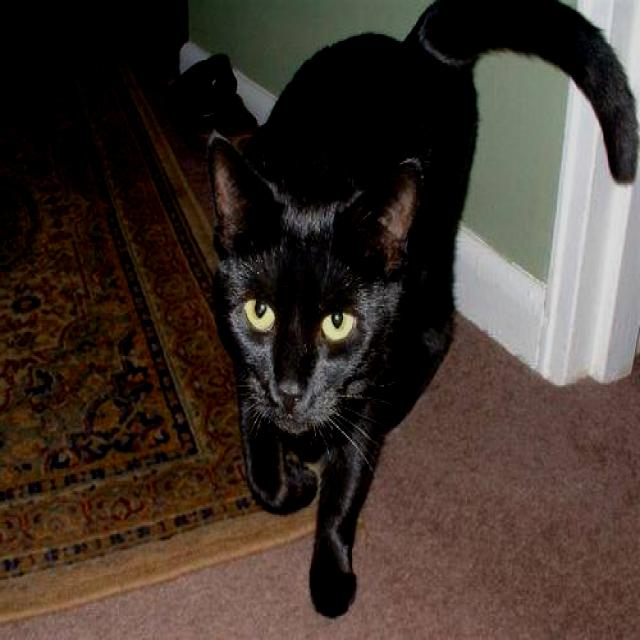Kucing: (121, 17, 630, 573)
